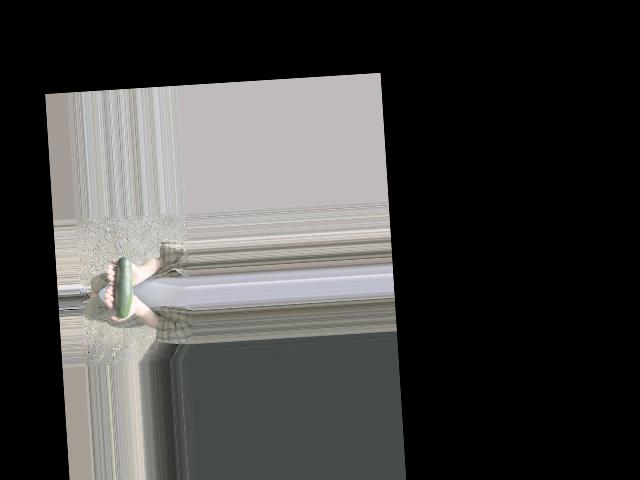cucumber: (111, 249, 134, 318)
